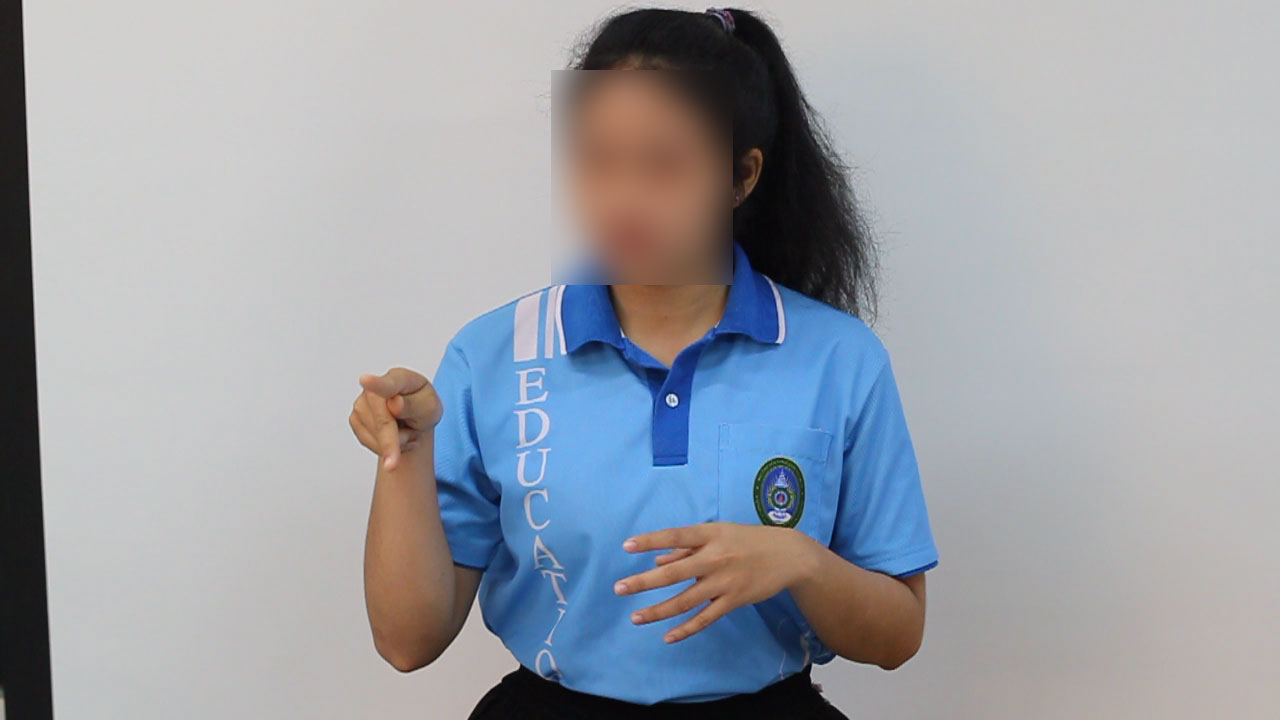por: (328, 352, 457, 497)
